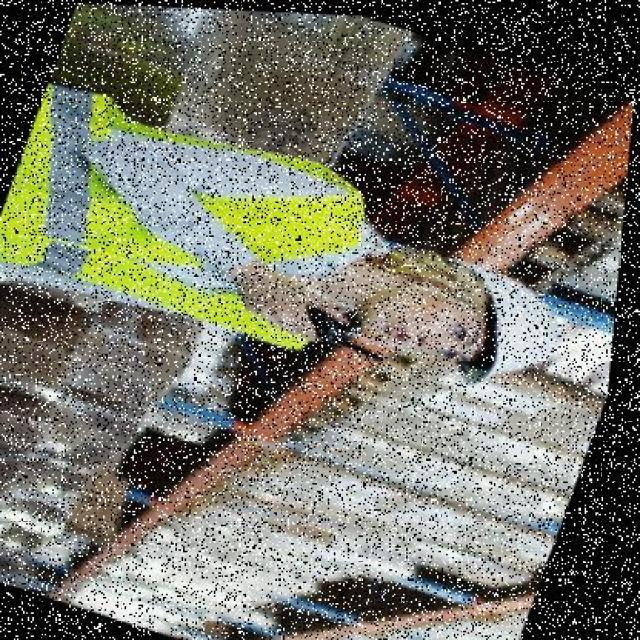helmet: (420, 248, 588, 402)
vest: (0, 73, 408, 374)
